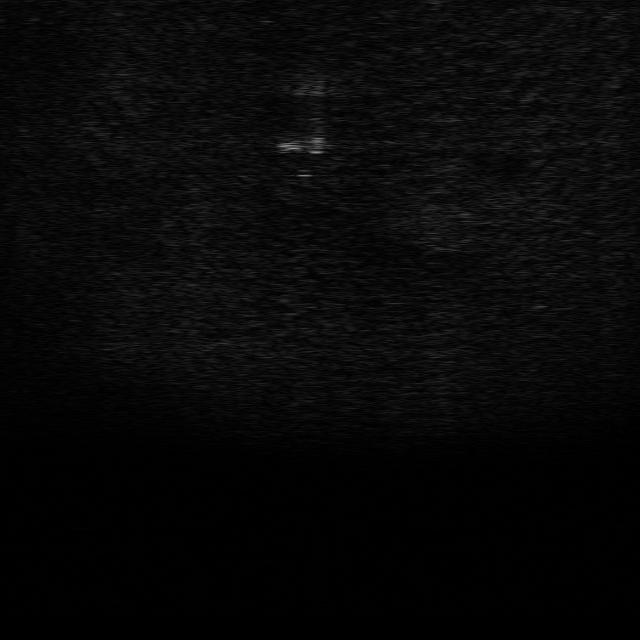plane: (274, 130, 341, 181)
